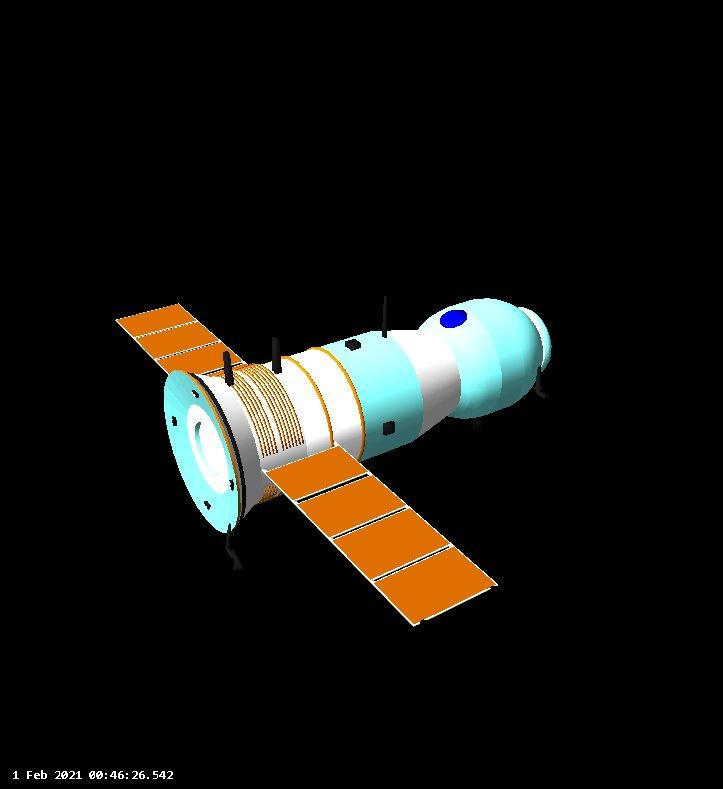antenna: (270, 334, 285, 375), (222, 349, 236, 388), (381, 292, 391, 339)
body: (162, 296, 554, 535)
solar: (263, 445, 498, 630), (115, 302, 245, 382)
thruster: (227, 482, 232, 486), (202, 503, 206, 507), (204, 505, 208, 509), (192, 394, 197, 397), (169, 418, 174, 421), (227, 487, 232, 490), (190, 392, 194, 395), (170, 422, 174, 425)
